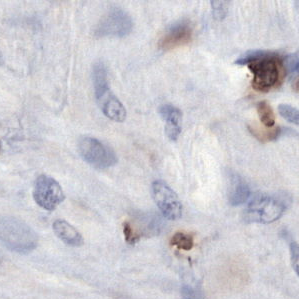Lymphocyte: (247, 58, 283, 89)
